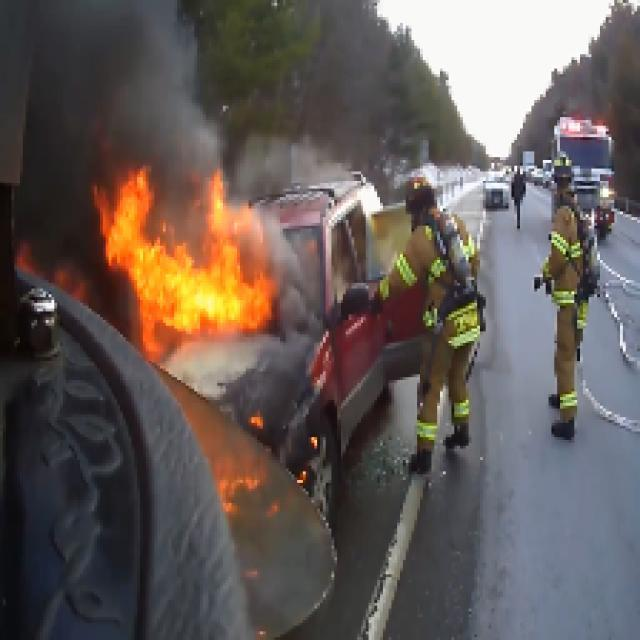Fire: (68, 151, 300, 383)
Smoke: (2, 0, 292, 217)
